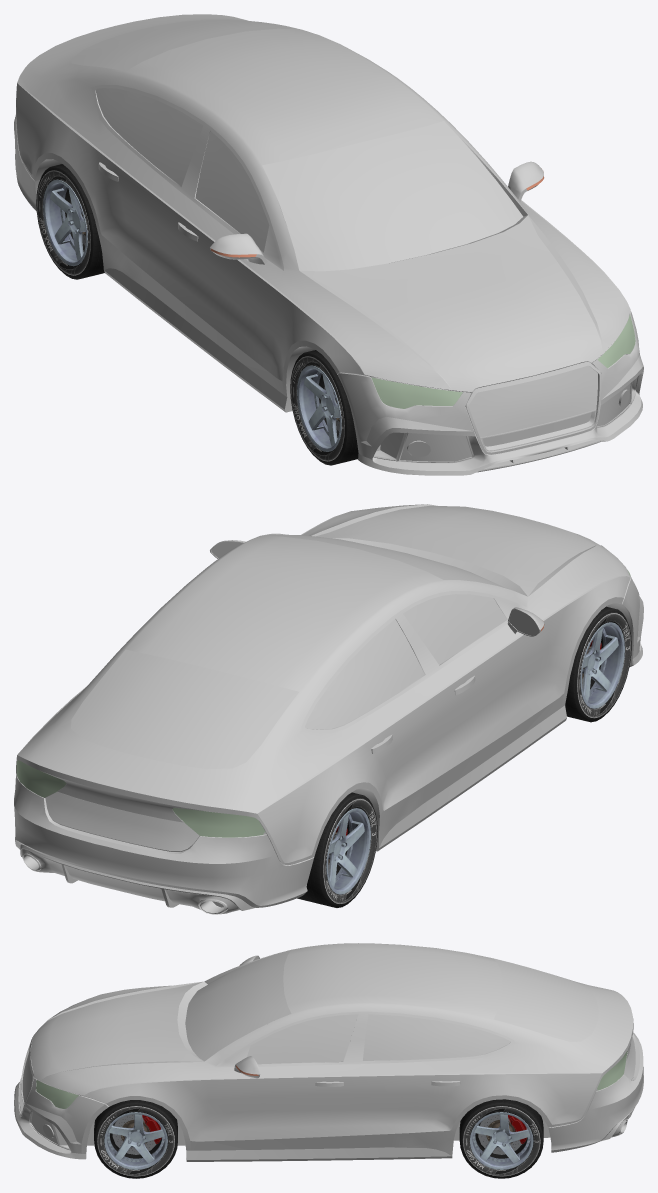
The model's file is CarModel.fbx.
3 renders of one model, top to bottom at view 1: azimuth 30°, elevation 25°; view 2: azimuth 150°, elevation 25°; view 3: azimuth 270°, elevation 25°, orthographic. The views are drawn at different scales.
Visible parts, largest first — view 1: body, tire1-fr, tire1-rr, rim-rr, rim-fr; view 2: body, tire1-rr, rim-rr, rim-fr, tire1-fr; view 3: body, tire1-rl, tire1-fl, rim-fl, rim-rl, disk-rl, disk-fl.
Boxes of the visible parts, bbox=[...] form: body: bbox=[14, 14, 643, 475]; tire1-fr: bbox=[290, 350, 358, 465]; tire1-rr: bbox=[36, 164, 104, 279]; rim-rr: bbox=[43, 179, 87, 266]; rim-fr: bbox=[297, 365, 341, 451]; body: bbox=[14, 504, 643, 914]; tire1-rr: bbox=[297, 792, 377, 907]; rim-rr: bbox=[326, 808, 370, 894]; rim-fr: bbox=[580, 622, 624, 708]; tire1-fr: bbox=[565, 606, 631, 722]; body: bbox=[14, 943, 643, 1161]; tire1-rl: bbox=[459, 1099, 543, 1178]; tire1-fl: bbox=[94, 1100, 177, 1178]; rim-fl: bbox=[104, 1112, 167, 1169]; rim-rl: bbox=[470, 1112, 533, 1169]; disk-rl: bbox=[478, 1114, 521, 1154]; disk-fl: bbox=[112, 1114, 156, 1154].
Size of the model in its own units: 216 by 138 by 496.
